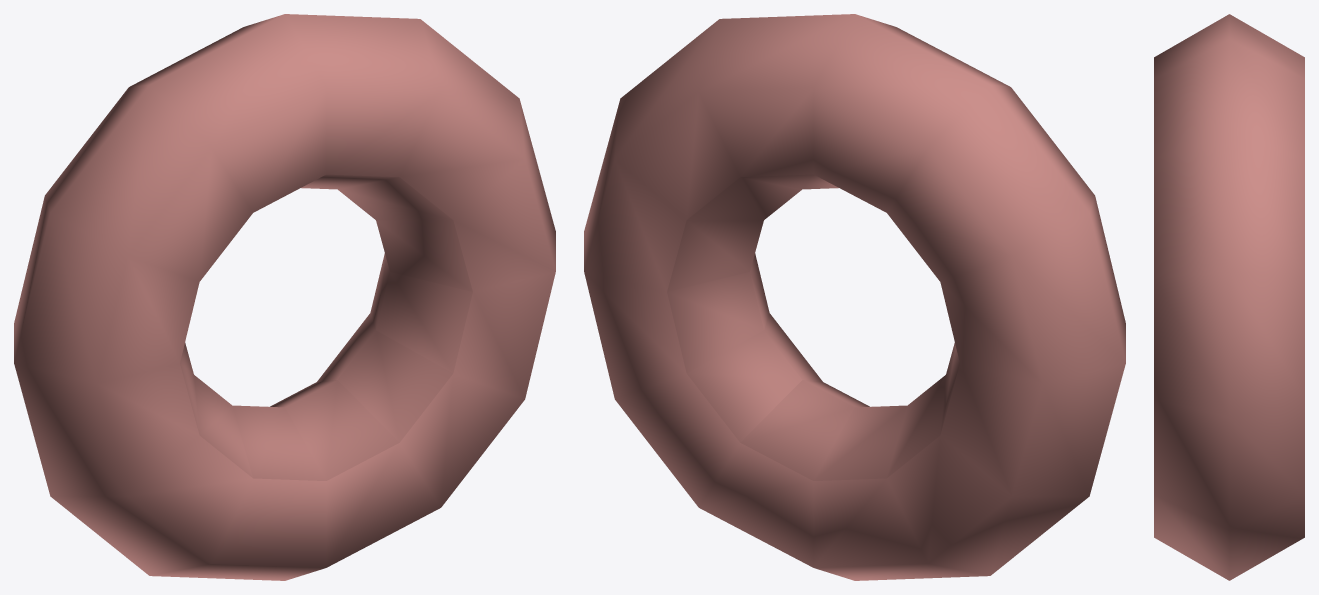
Rendered from topper_donut.glb.
3 renders of one model, left to right at view 1: azimuth 30°, elevation 25°; view 2: azimuth 150°, elevation 25°; view 3: azimuth 270°, elevation 25°, orthographic. The views are drawn at different scales.
Visible parts, largest first — view 1: topper_donut; view 2: topper_donut; view 3: topper_donut.
Part boxes in pixels (left/top/right/bottom): topper_donut: left=14, top=14, right=555, bottom=580; topper_donut: left=584, top=14, right=1125, bottom=580; topper_donut: left=1154, top=14, right=1304, bottom=580.
Bounding box in the file's own units: 0.49 × 0.49 × 0.1299.
